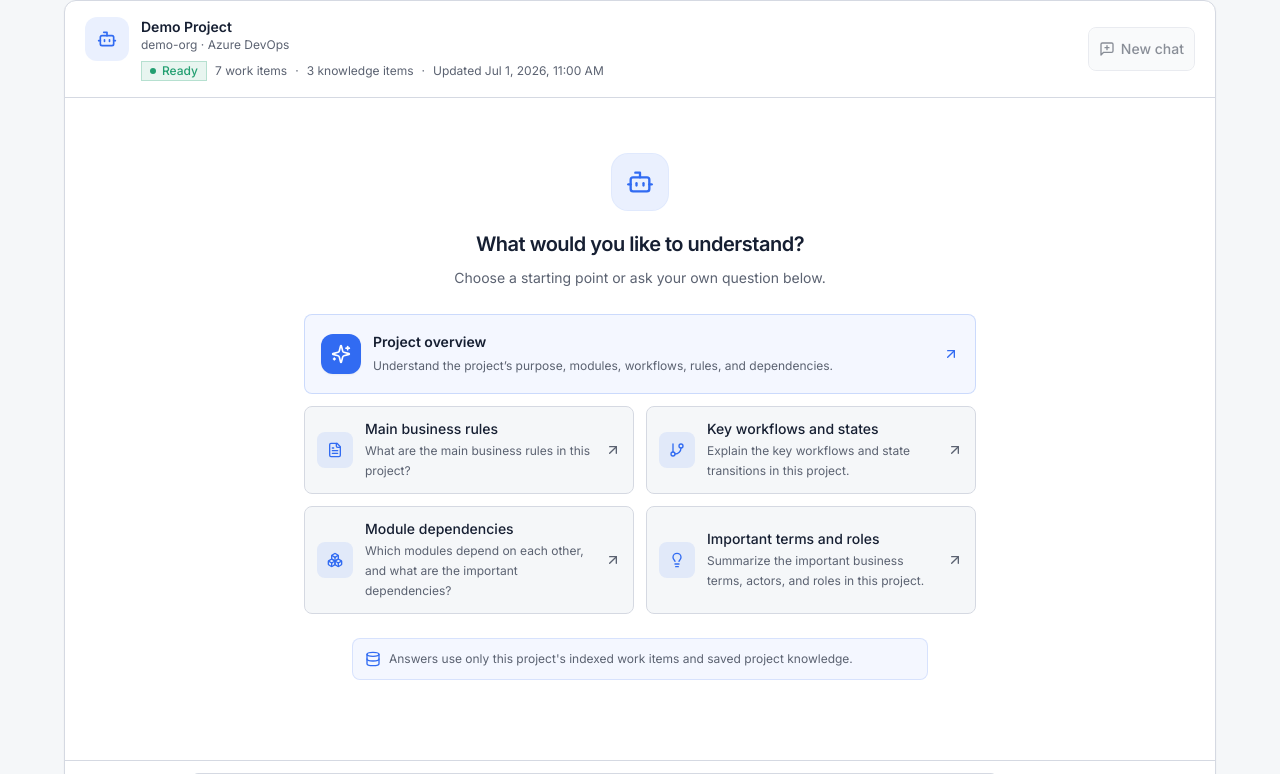
it: BusinessOwnerAssistantClient › turns parenthesized source ID runs into inline source buttons
Click the button "Main business rules": (469, 450) [304,406,634,494]
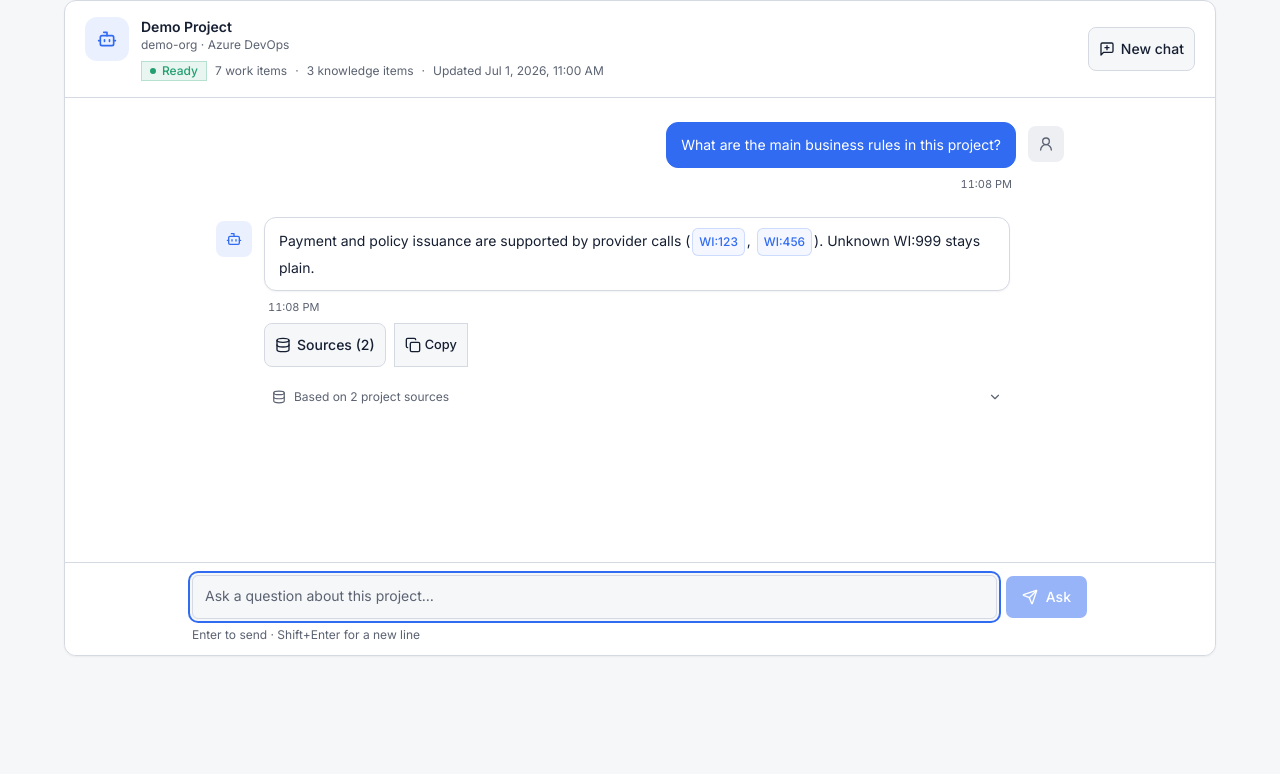
Expected: the button with aria-label "View source WI:123" is shown, [692,228,745,256]
Expected: the button with aria-label "View source WI:456" is shown, [757,228,812,256]
